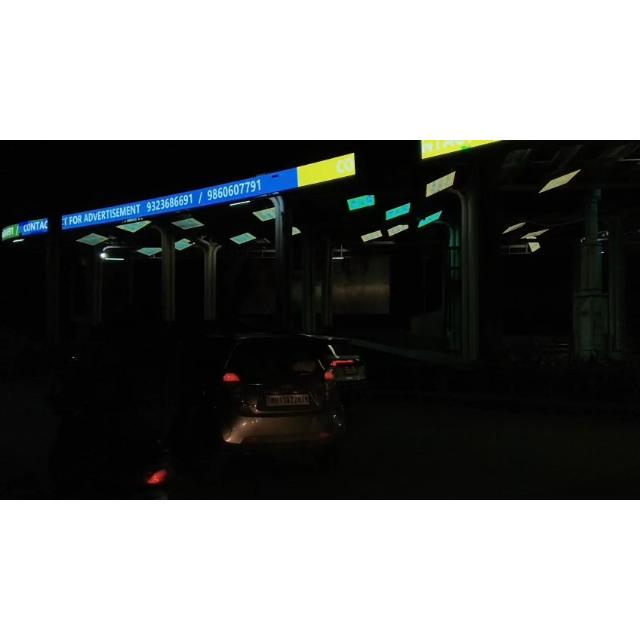car: (107, 321, 361, 463), (292, 328, 372, 388)
